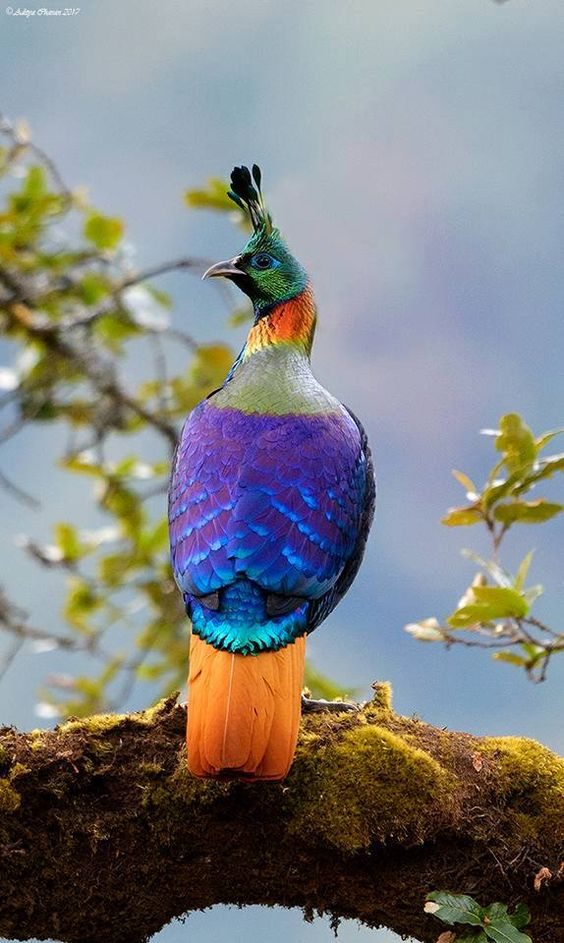bird: (104, 146, 415, 793)
